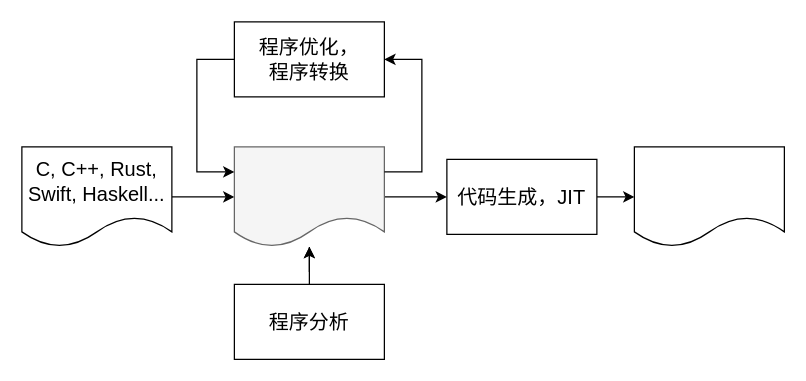
This 806x381 diagram has some shape labels left out. The box of each missing label's shape, as (x1, y1, x2, y2) in pixels:
ARM, PowerPC, X86, Mips...: (633, 146, 784, 247)
LLVM IR: (233, 146, 384, 247)
